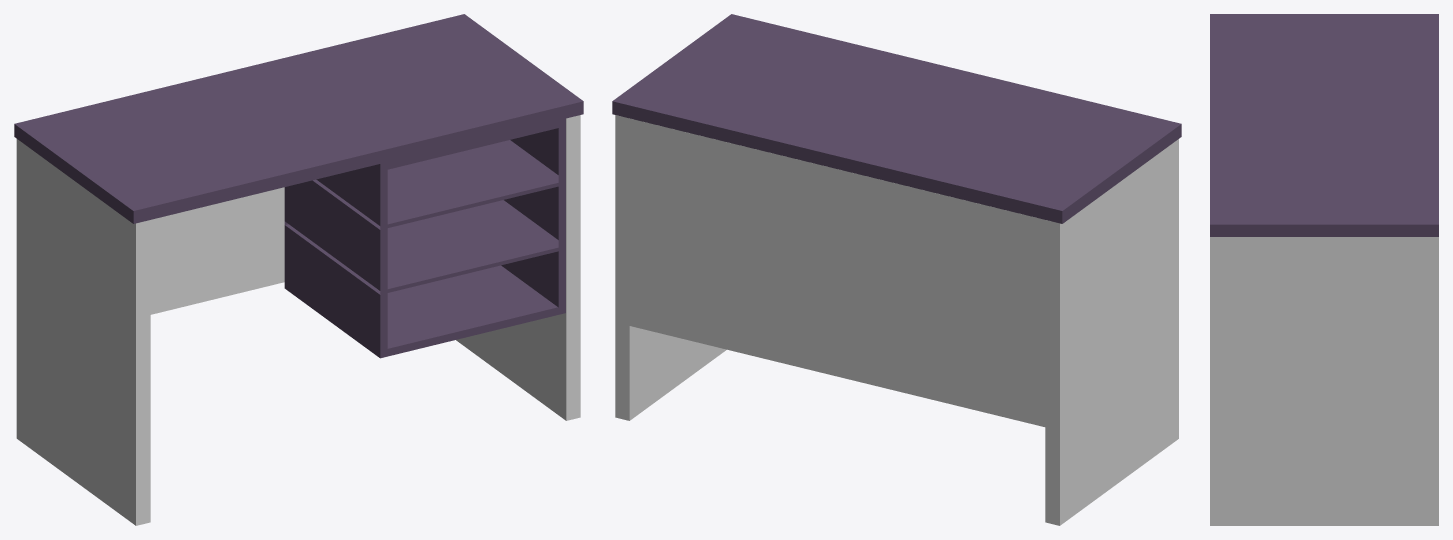
The model's file is Desk.fbx.
The picture shows the model from 3 angles, left to right: view 1: azimuth 30°, elevation 25°; view 2: azimuth 150°, elevation 25°; view 3: azimuth 270°, elevation 25°; orthographic projection. The views are drawn at different scales.
Visible parts, largest first — view 1: Desk, Legs.001, Drawer, Back; view 2: Back, Desk, Legs.001; view 3: Legs.001, Desk.
Boxes of the visible parts, x1=… form: Desk: x1=14, y1=14, x2=583, y2=223; Legs.001: x1=16, y1=115, x2=580, y2=525; Drawer: x1=284, y1=118, x2=565, y2=358; Back: x1=150, y1=187, x2=284, y2=314; Back: x1=629, y1=118, x2=1046, y2=426; Desk: x1=612, y1=14, x2=1181, y2=223; Legs.001: x1=615, y1=115, x2=1178, y2=525; Legs.001: x1=1210, y1=237, x2=1438, y2=525; Desk: x1=1210, y1=14, x2=1438, y2=236.
Size of the model in its own units: 109 by 73 by 50.01.
